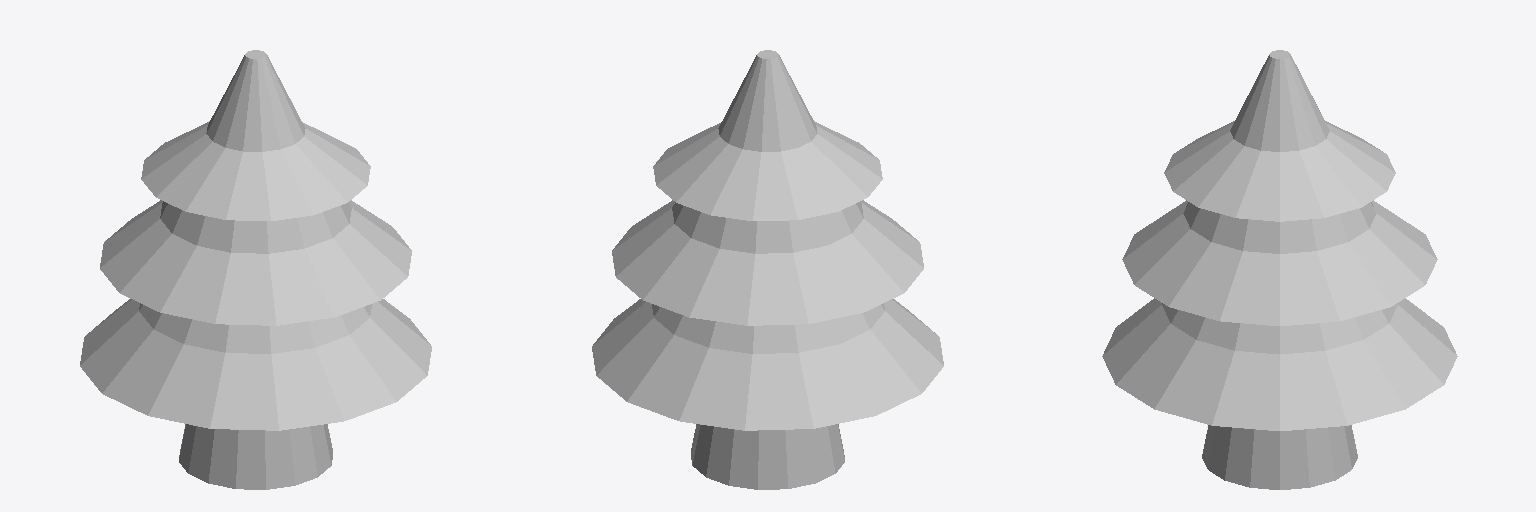
The model's file is tree.obj.
3 renders of one model, left to right at view 1: azimuth 30°, elevation 25°; view 2: azimuth 150°, elevation 25°; view 3: azimuth 270°, elevation 25°, orthographic.
Visible parts, largest first — view 1: Cylinder; view 2: Cylinder; view 3: Cylinder.
Part boxes in pixels (x1,y1,x2,y2): Cylinder: (80,50,431,489); Cylinder: (592,50,943,489); Cylinder: (1102,50,1457,489).
Size of the model in its own units: 39.47 by 49.32 by 39.47.